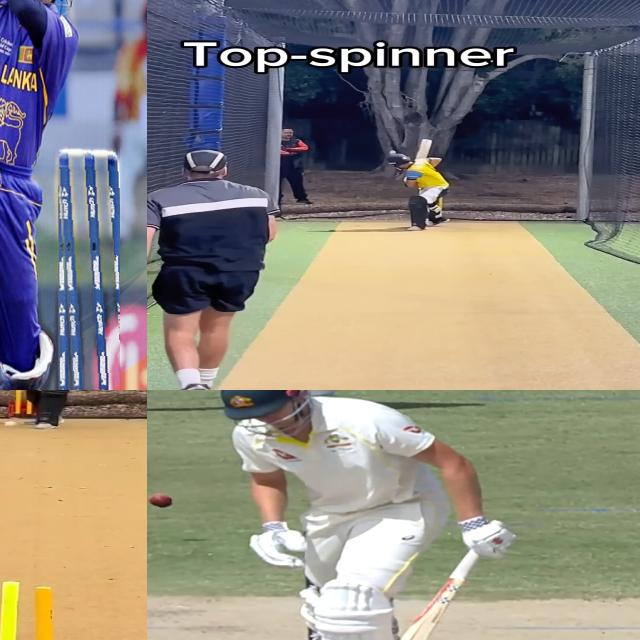Cricket ball: (147, 493, 173, 507), (4, 420, 18, 428), (388, 150, 397, 154)
Stumps: (55, 143, 120, 390)
